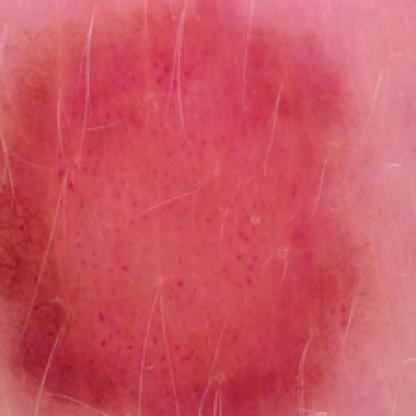benign: (4, 28, 336, 392)
